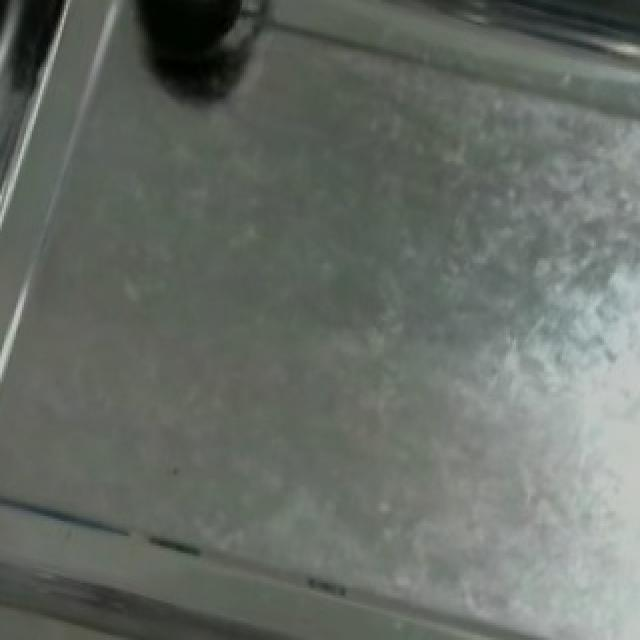Fruit: (114, 0, 262, 94)
